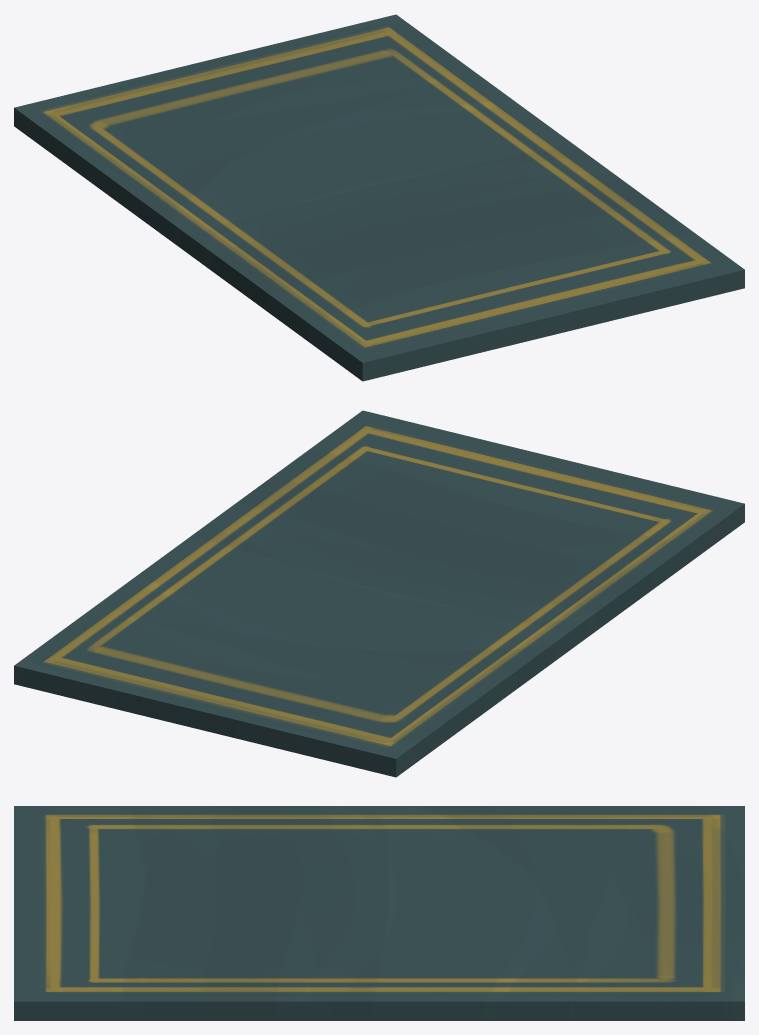
Rendered from Carpet - Red.fbx.
The picture shows the model from 3 angles, top to bottom: view 1: azimuth 30°, elevation 25°; view 2: azimuth 150°, elevation 25°; view 3: azimuth 270°, elevation 25°; orthographic projection. The views are drawn at different scales.
Parts seen in each view (by area): view 1: Plane.015; view 2: Plane.015; view 3: Plane.015.
Boxes of the visible parts, left/top/right/bottom form: Plane.015: left=14, top=14, right=744, bottom=381; Plane.015: left=14, top=410, right=744, bottom=777; Plane.015: left=14, top=806, right=744, bottom=1020.
Size of the model in its own units: 456 by 21.18 by 720.
